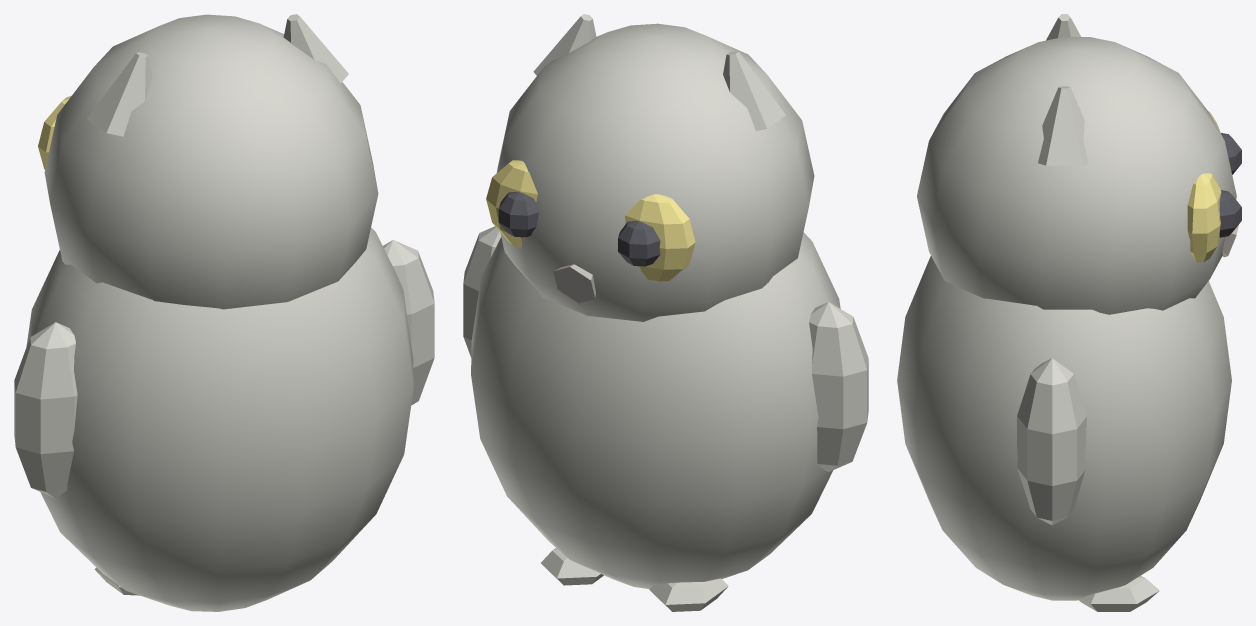
Rendered from Owl.fbx.
The picture shows the model from 3 angles, left to right: view 1: azimuth 30°, elevation 25°; view 2: azimuth 150°, elevation 25°; view 3: azimuth 270°, elevation 25°; orthographic projection. The views are drawn at different scales.
Visible parts, largest first — view 1: Owl; view 2: Owl; view 3: Owl.
Boxes of the visible parts, x1,y1,x2,y2 form: Owl: (14, 14, 434, 611); Owl: (463, 14, 868, 611); Owl: (897, 14, 1241, 611).
Bounding box in the file's own units: 0.7427 × 0.9582 × 0.56.
